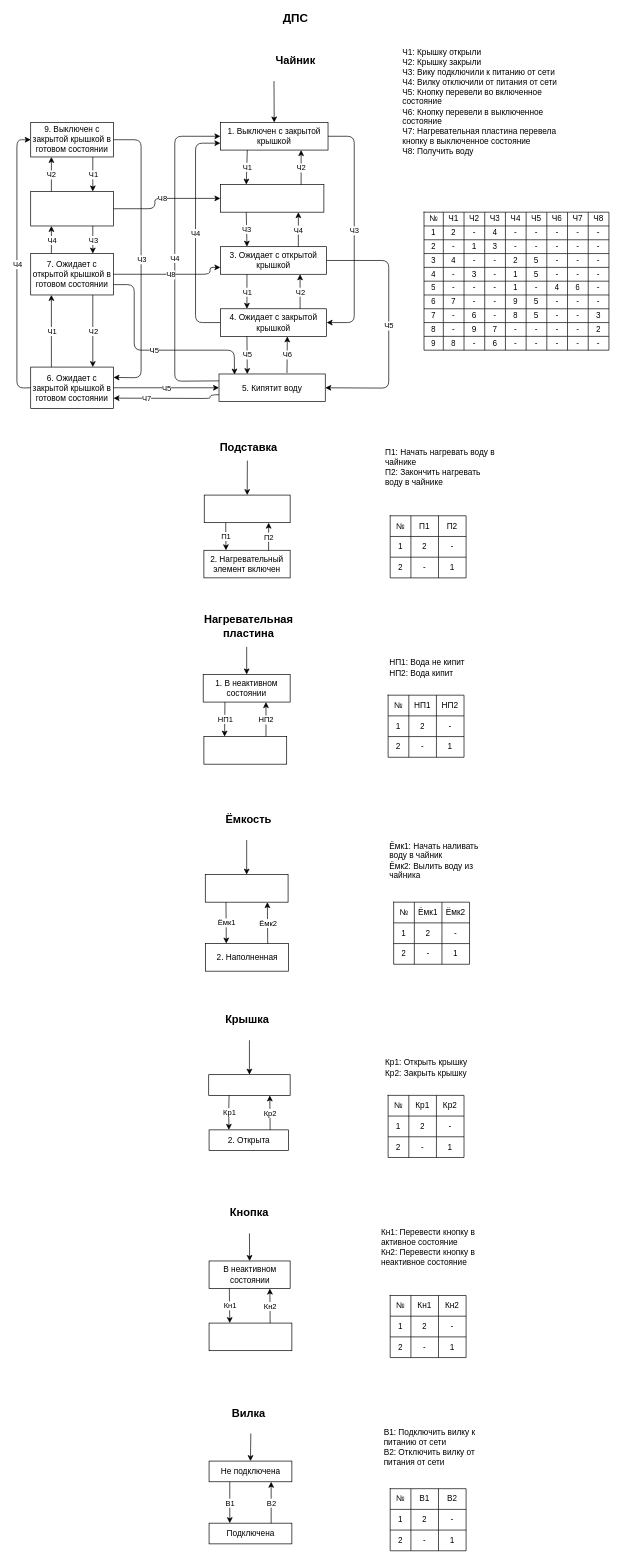
This 621x1563 diagram has some shape labels left out. The centre of each missing label's shape, as x and y in pixels:
1. Закрыта: [249,1084]
1. Нагревательный элемент выключен: [247,508]
1. Пустая: [246,888]
2. В активном состоянии: [245,750]
2. Выключен с открытой крышкой: [272,198]
8. Выключен с открытой крышкой в готовом состоянии: [72,208]
В активном состоянии: [250,1336]
